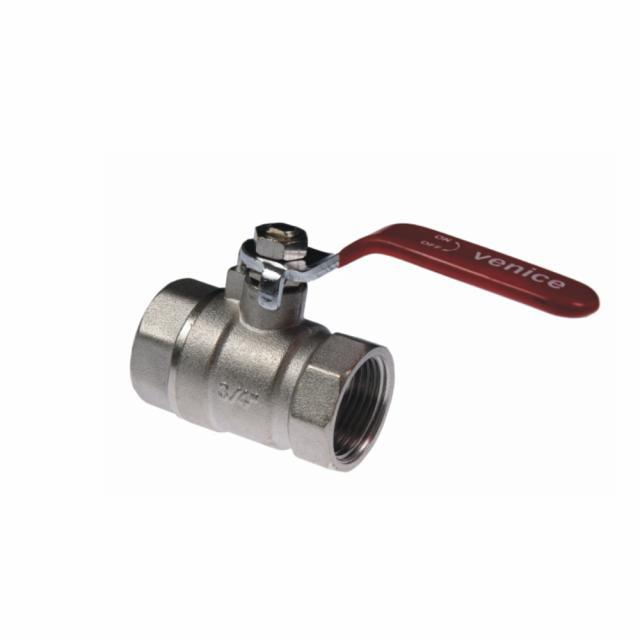opened valve: (125, 219, 601, 475)
